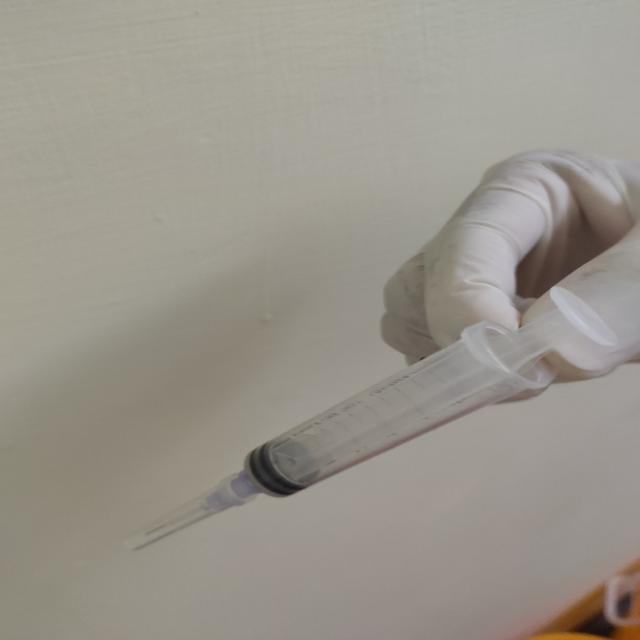B3: (131, 288, 623, 554)
